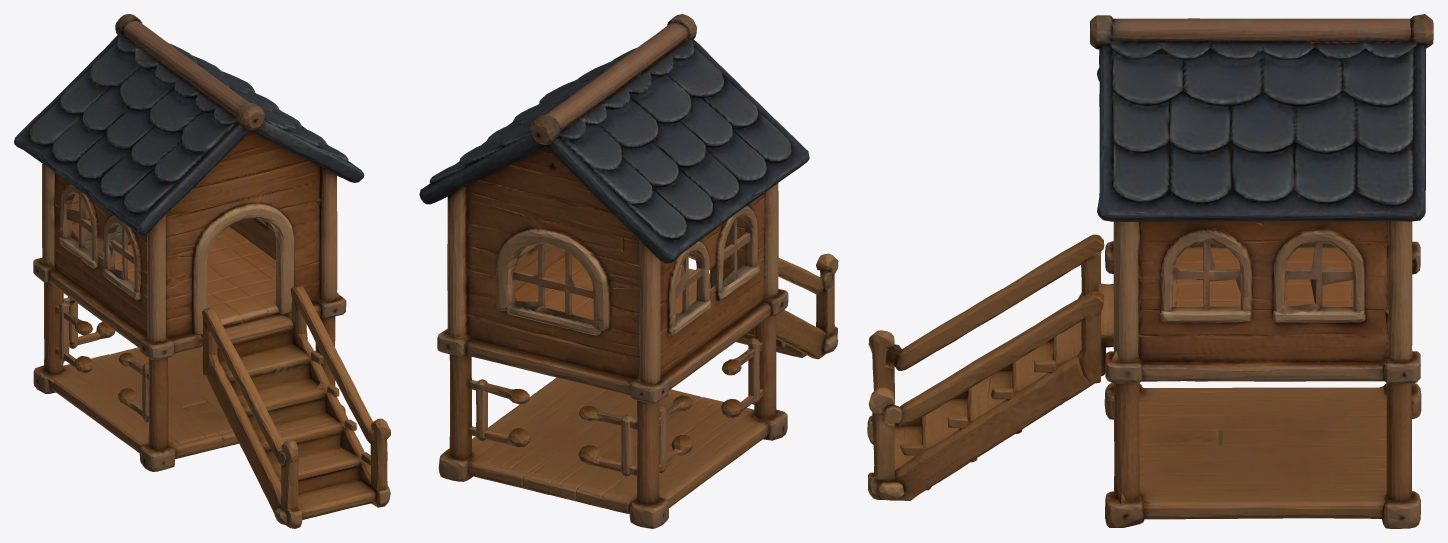
Rendered from DOM_budka_8__base.glb.
3 renders of one model, left to right at view 1: azimuth 30°, elevation 25°; view 2: azimuth 150°, elevation 25°; view 3: azimuth 270°, elevation 25°, orthographic. The views are drawn at different scales.
Visible parts, largest first — view 1: tripo_node_ac6729f5-73c2-4e4e-95e1-3ff5b1cdb705; view 2: tripo_node_ac6729f5-73c2-4e4e-95e1-3ff5b1cdb705; view 3: tripo_node_ac6729f5-73c2-4e4e-95e1-3ff5b1cdb705.
Part boxes in pixels (x1,y1,x2,y2): tripo_node_ac6729f5-73c2-4e4e-95e1-3ff5b1cdb705: (14, 14, 390, 528); tripo_node_ac6729f5-73c2-4e4e-95e1-3ff5b1cdb705: (419, 14, 838, 528); tripo_node_ac6729f5-73c2-4e4e-95e1-3ff5b1cdb705: (867, 14, 1433, 528).
Bounding box in the file's own units: 2.76 × 4 × 4.52.
Materials: 1 (1 with a texture image).
